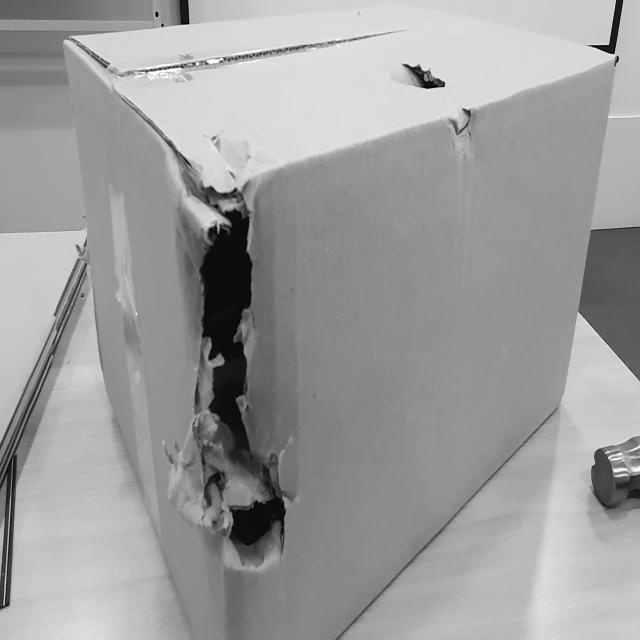hole: (179, 164, 292, 579), (390, 56, 452, 99)
